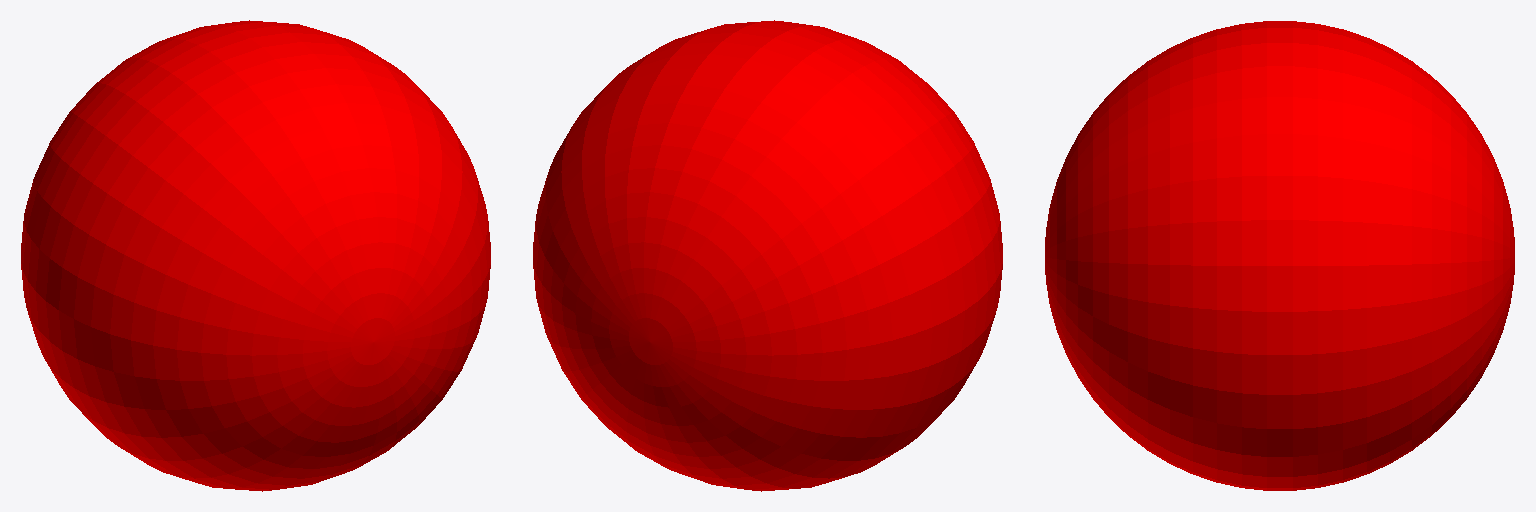
URDF robot description (urdf_robot):
<?xml version="1.0" ?>
<robot name="urdf_robot">
  <link name="base_link">
    <contact>
      <rolling_friction value="0.001"/>
      <spinning_friction value="0.001"/>
    </contact>
    <inertial>
      <origin rpy="0 0 0" xyz="0 0 0"/>
       <mass value="1"/>
       <inertia ixx="1" ixy="0" ixz="0" iyy="1" iyz="0" izz="1"/>
    </inertial>
    <visual>
      <origin rpy="0 0 0" xyz="0 0 0"/>
      <geometry>
				<mesh filename="textured_sphere_smooth.obj" scale="0.03 0.03 0.03"/>      
      </geometry>
      <material name="red">
        <color rgba="1 0 0 1"/>
      </material>
    </visual>
    <collision>
      <origin rpy="0 0 0" xyz="0 0 0"/>
      <geometry>
	 <sphere radius="0.03"/>
      </geometry>
    </collision>
  </link>
</robot>

--- Facts derived from the render (not from the file) ---
Views: 3 orthographic renders of the robot side by side, from view 1: azimuth 30°, elevation 25°; view 2: azimuth 150°, elevation 25°; view 3: azimuth 270°, elevation 25°.
Model urdf_robot with 1 links and 0 joints (none), rooted at base_link, posed all joints at 0.
Visible links, largest first — view 1: base_link; view 2: base_link; view 3: base_link.
Boxes of the visible links, box(x1,y1,x2,y2) form: base_link: box(21, 20, 490, 491); base_link: box(533, 20, 1002, 491); base_link: box(1045, 21, 1514, 490).
Bounding box of the posed robot: 0.0599 × 0.06 × 0.0599 m (x, y, z).
Meshes: 1 distinct files referenced, 1 mesh visuals loaded (1 OBJ).